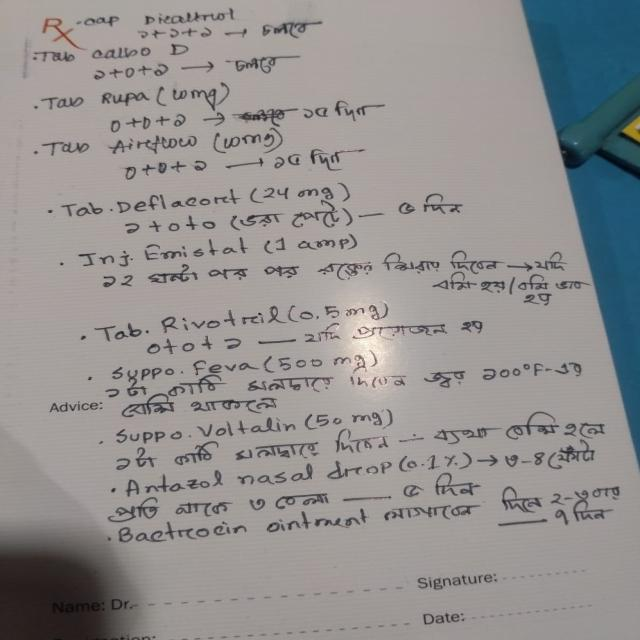Airflow: (107, 132, 209, 156)
Antazol: (121, 468, 235, 498)
Calbo D: (87, 40, 195, 64)
Defracort: (112, 185, 246, 217)
Dicaltrol: (136, 9, 249, 29)
Emistat: (136, 238, 262, 264)
Feva: (186, 354, 263, 377)
Rivotril: (157, 301, 287, 332)
Rupa: (103, 78, 152, 108)
Voltalin: (189, 417, 306, 441)
